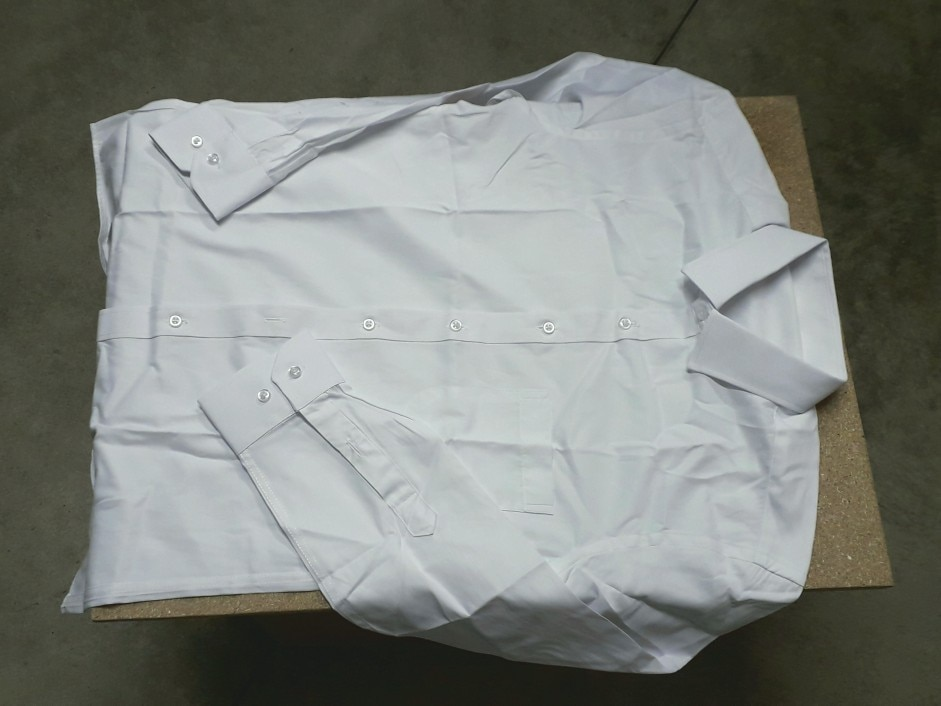shirts: (100, 43, 856, 626)
